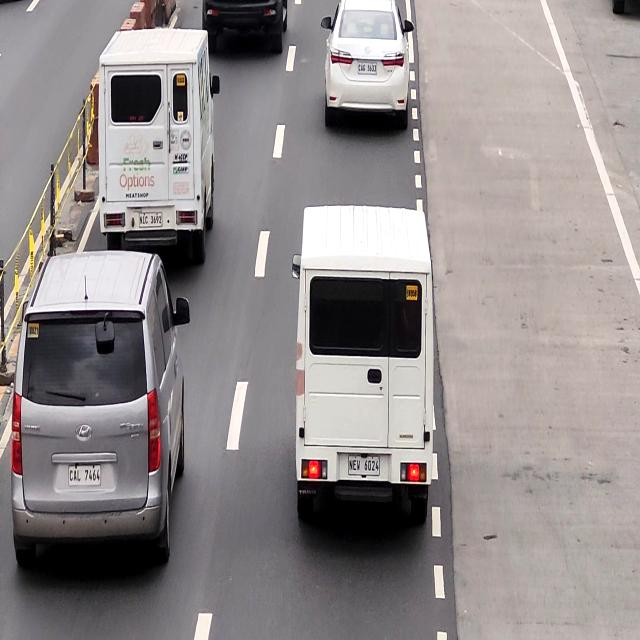Car: (15, 254, 182, 560), (298, 208, 431, 522), (96, 27, 213, 261), (323, 0, 409, 121), (200, 0, 288, 54)
License-Plate: (68, 460, 102, 492), (348, 452, 380, 481), (137, 212, 163, 228), (356, 60, 378, 75)
